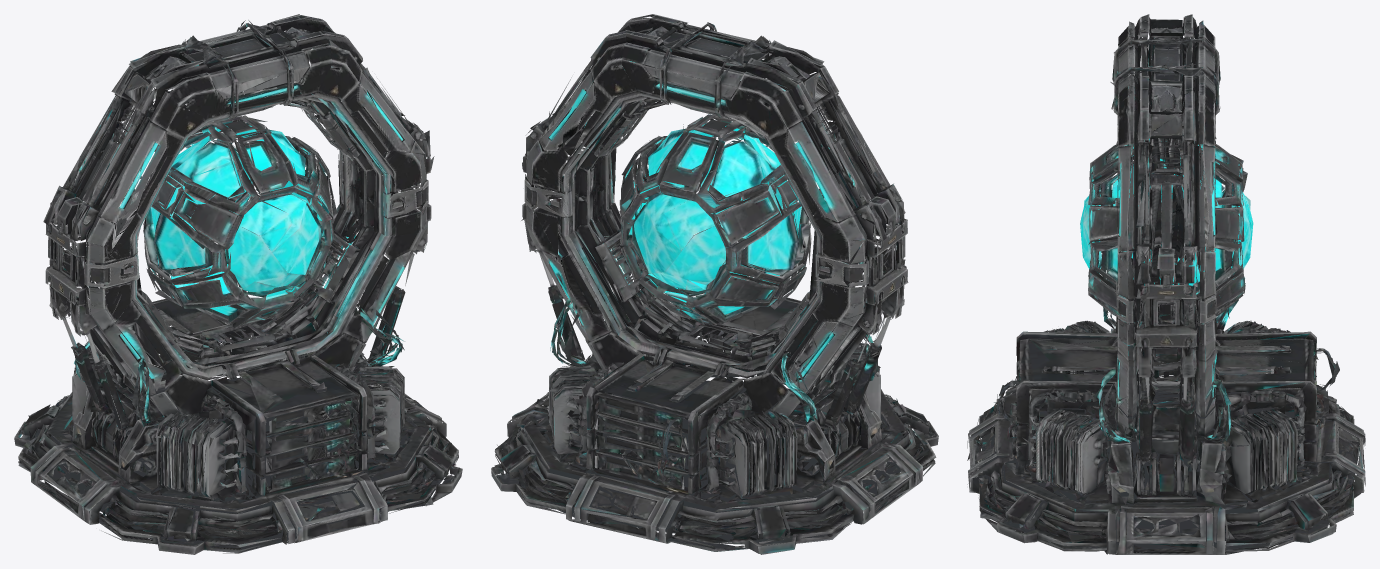
Rendered from env_core.glb.
3 renders of one model, left to right at view 1: azimuth 30°, elevation 25°; view 2: azimuth 150°, elevation 25°; view 3: azimuth 270°, elevation 25°, orthographic.
Visible parts, largest first — view 1: body; view 2: body; view 3: body.
Boxes of the visible parts, box(x1,y1,x2,y2) form: body: box(14, 14, 462, 554); body: box(491, 14, 938, 554); body: box(967, 14, 1365, 554).
Size of the model in its own units: 1.26 by 1.42 by 1.2.
Materials: 1 (1 with a texture image).
